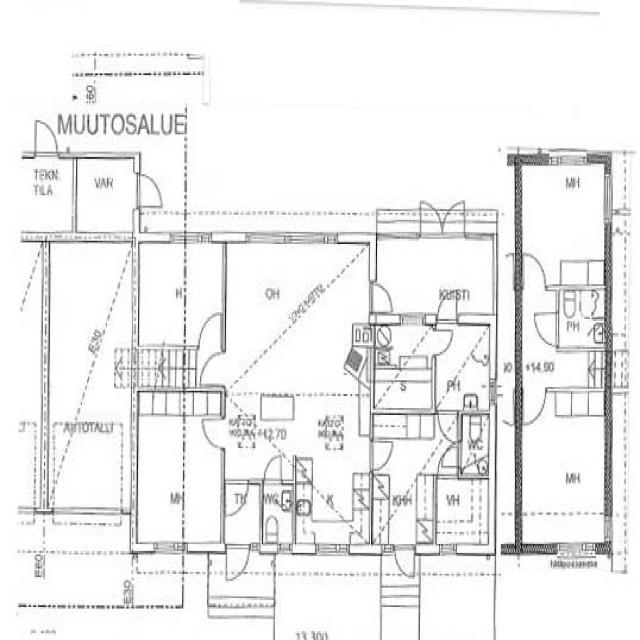door: (134, 169, 166, 214), (519, 382, 549, 429), (30, 117, 61, 161), (199, 347, 228, 390), (224, 540, 252, 583), (532, 308, 560, 351), (197, 310, 225, 353), (436, 199, 466, 239), (416, 199, 445, 240), (223, 476, 250, 520), (198, 415, 228, 453), (520, 248, 548, 288), (368, 437, 395, 474), (369, 280, 395, 316), (435, 293, 460, 327), (436, 407, 460, 441), (438, 442, 462, 475), (393, 542, 415, 578), (262, 453, 284, 488), (432, 328, 453, 357)
window: (242, 226, 338, 252), (50, 504, 126, 530), (66, 148, 139, 162), (541, 148, 590, 168), (148, 536, 188, 560), (600, 171, 615, 229), (9, 498, 39, 526), (375, 228, 418, 245), (314, 543, 349, 560), (276, 541, 293, 559), (439, 544, 458, 559)
zone: (220, 240, 376, 439), (44, 227, 132, 519), (517, 389, 611, 549), (131, 391, 222, 553), (0, 238, 48, 514), (518, 160, 608, 286), (295, 408, 371, 550), (136, 239, 222, 354), (373, 428, 439, 550), (372, 320, 435, 424), (73, 154, 138, 244), (434, 322, 494, 412), (13, 156, 77, 239), (434, 474, 491, 554), (557, 289, 609, 352), (260, 479, 294, 552), (459, 411, 492, 478)
